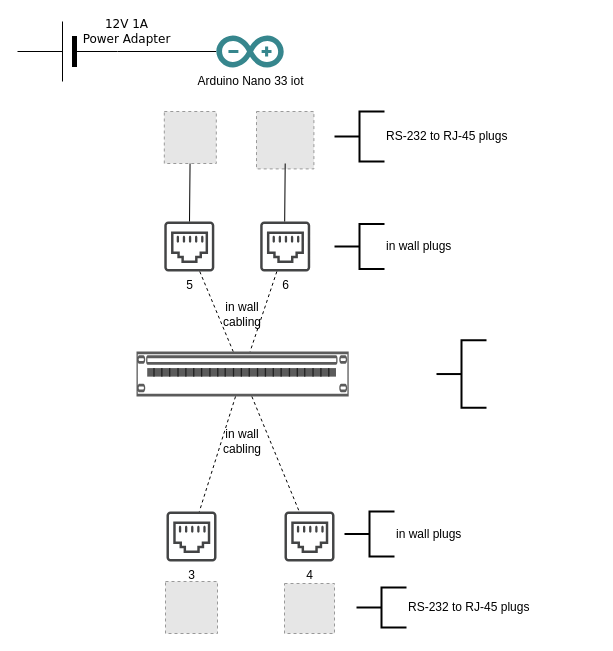
Image size: 613x651. Some labels were removed from this diagram. Grey dashed boxes stand in for pictures. The box of each missing label's shape, as (x1, y1, x2, y2) in pixels:
220 V: (16, 20, 118, 82)
Patch Panel: (136, 350, 349, 396)
port # 5 into port # 3 port # 6 into port # 4: (435, 339, 487, 408)
